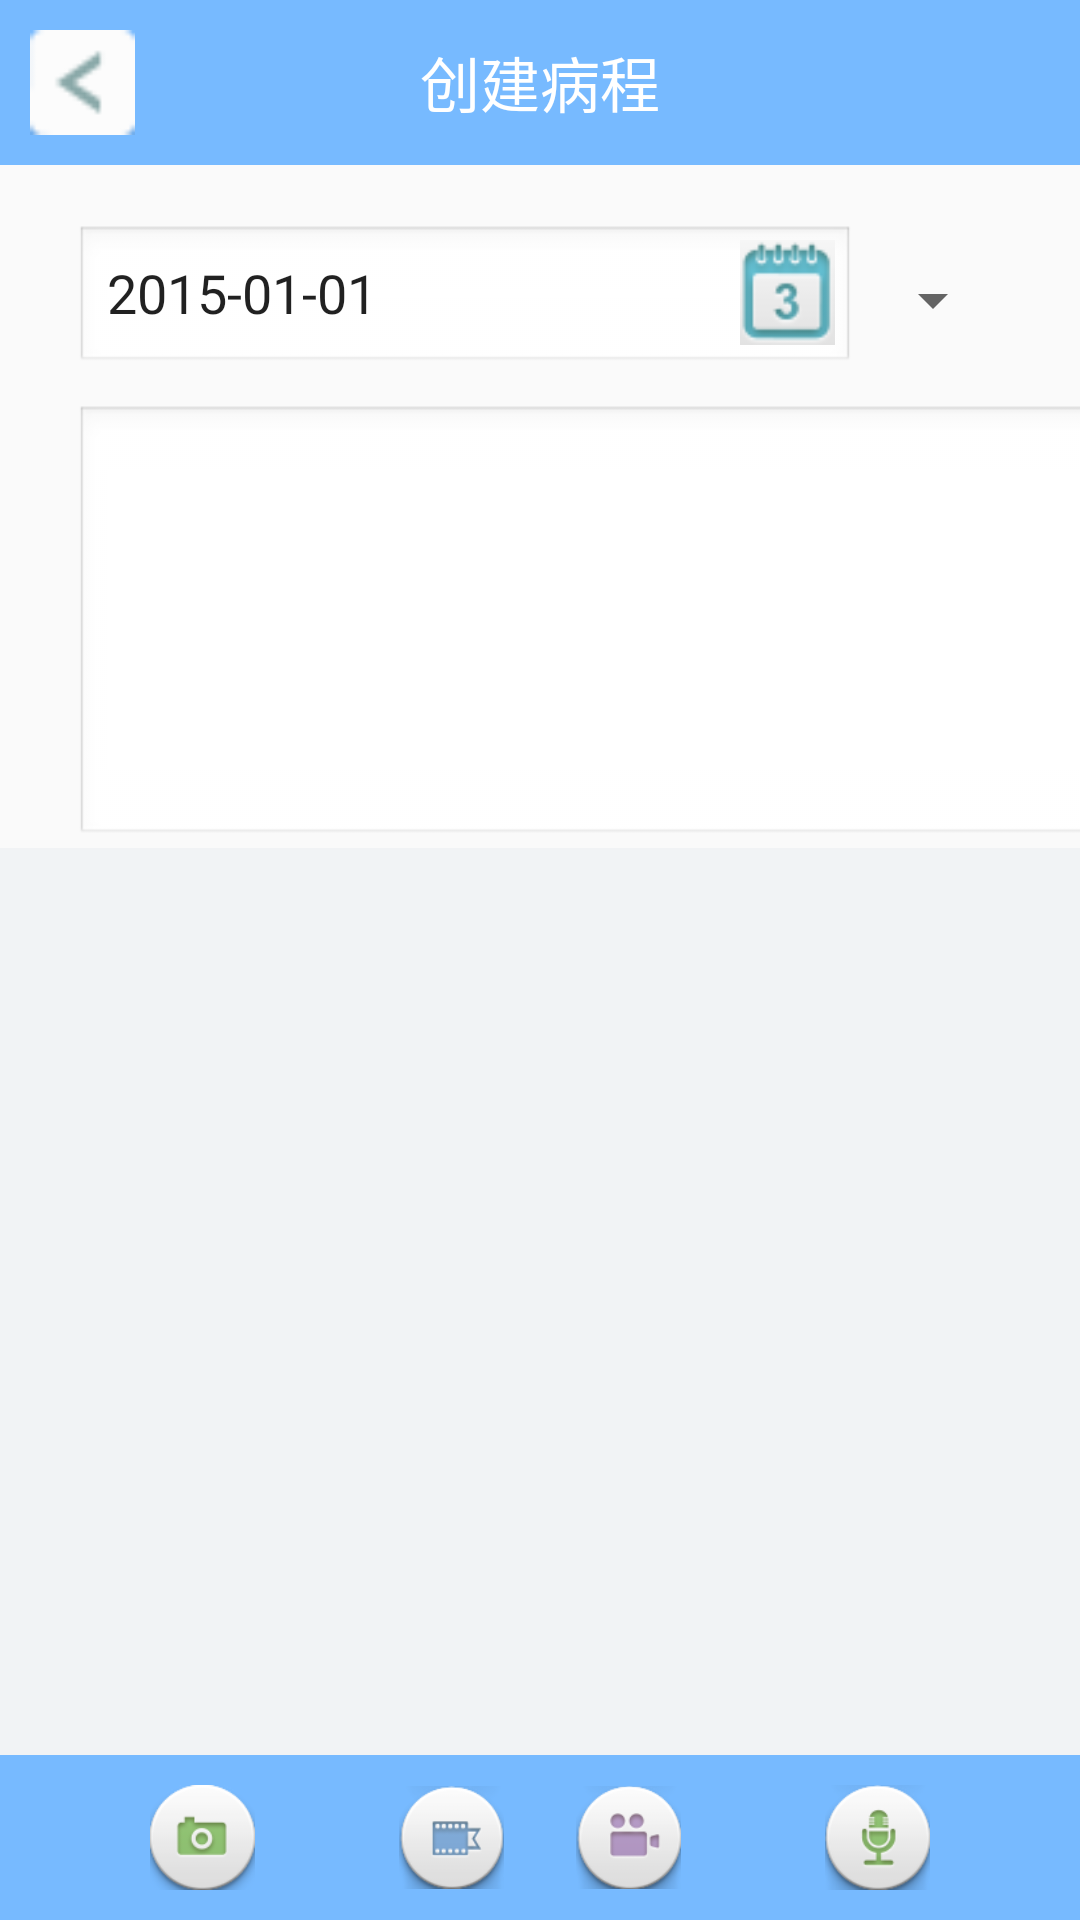

Point at icon controls on the screen. Image size 1080px×1920px, points as (x=x, y=y).
album: (x=451, y=1837)
date: (x=787, y=293)
left: (x=82, y=82)
photo: (x=202, y=1837)
talk: (x=877, y=1837)
video: (x=628, y=1837)
